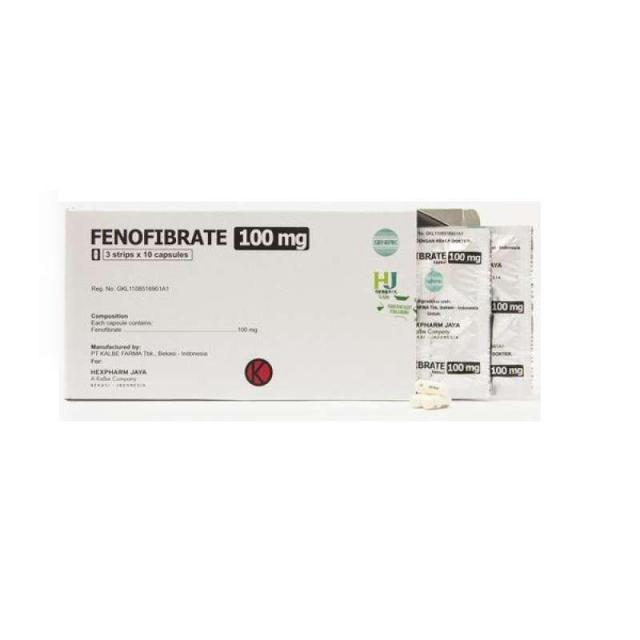drug-name: (89, 224, 231, 250)
